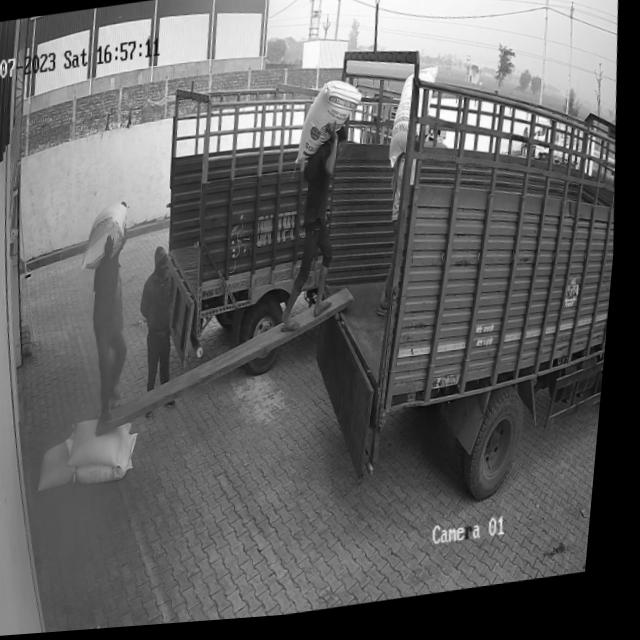sack: (292, 82, 369, 168), (385, 71, 445, 175), (71, 415, 144, 477), (82, 201, 135, 273), (79, 435, 148, 486), (42, 441, 87, 493)
